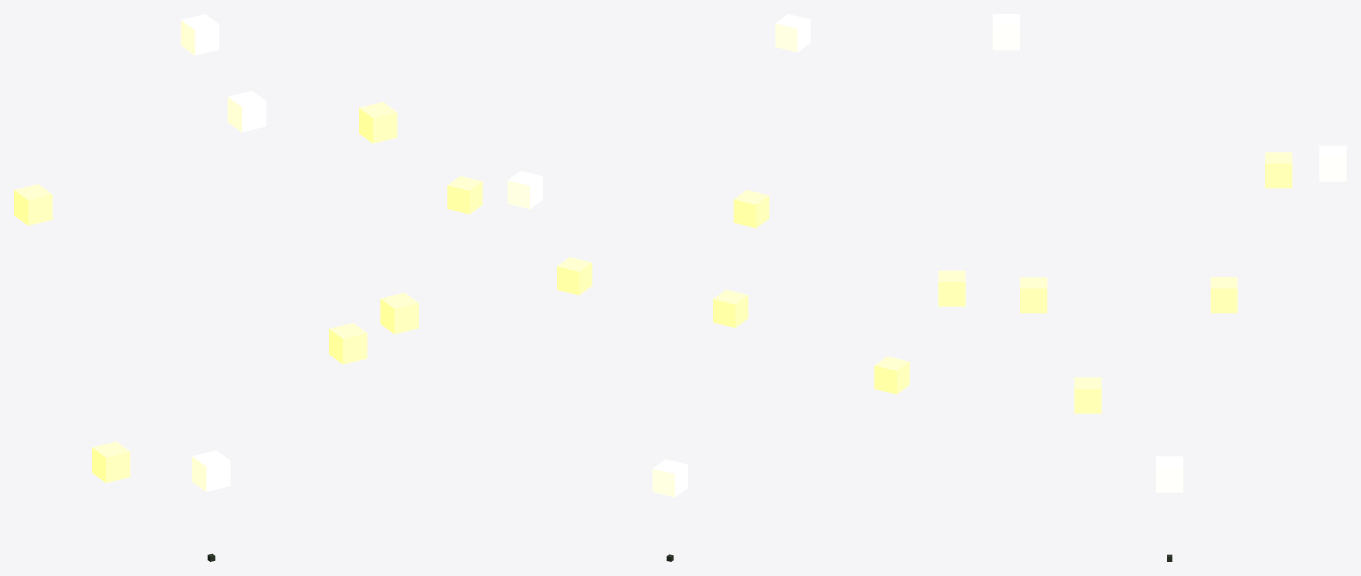
The model's file is dba-fireflies.glb.
3 views of the same model, side by side, from view 1: azimuth 30°, elevation 25°; view 2: azimuth 150°, elevation 25°; view 3: azimuth 270°, elevation 25° (orthographic). The views are drawn at different scales.
Parts seen in each view (by area): view 1: box-prop; view 2: box-prop; view 3: box-prop.
Boxes of the visible parts, box(x1,y1,x2,y2) form: box-prop: box(14, 14, 418, 561); box-prop: box(447, 14, 909, 561); box-prop: box(938, 14, 1346, 561).
Size of the model in its own units: 1.6 by 2.1 by 1.5.
